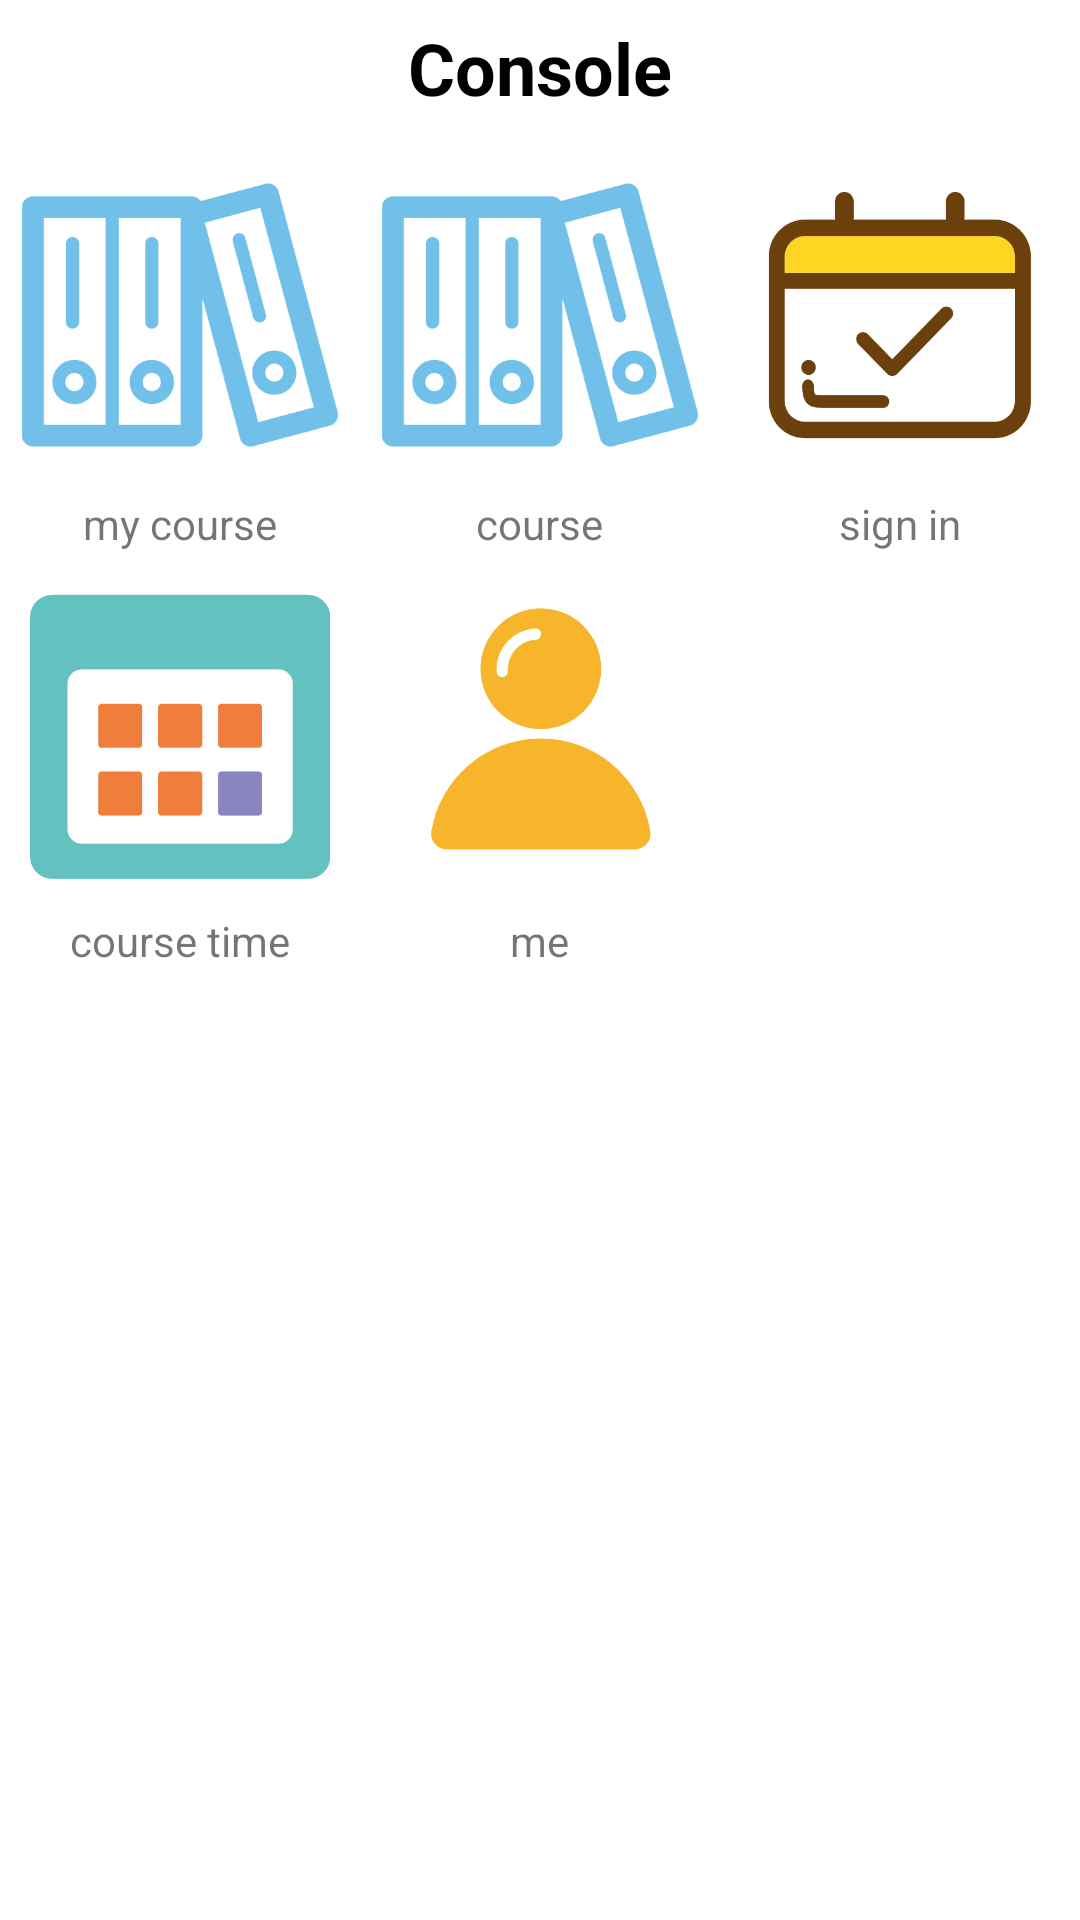

Icon click points for this 1080 x 1920 phone screenshot, format [x,y]:
user: [541,729]
